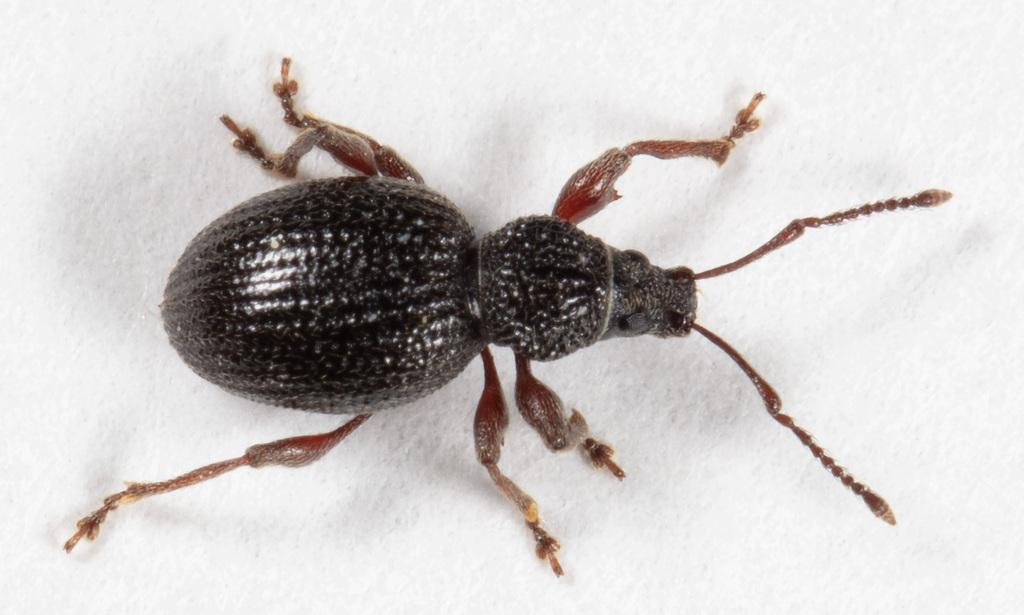weevils: (0, 5, 1024, 615)
